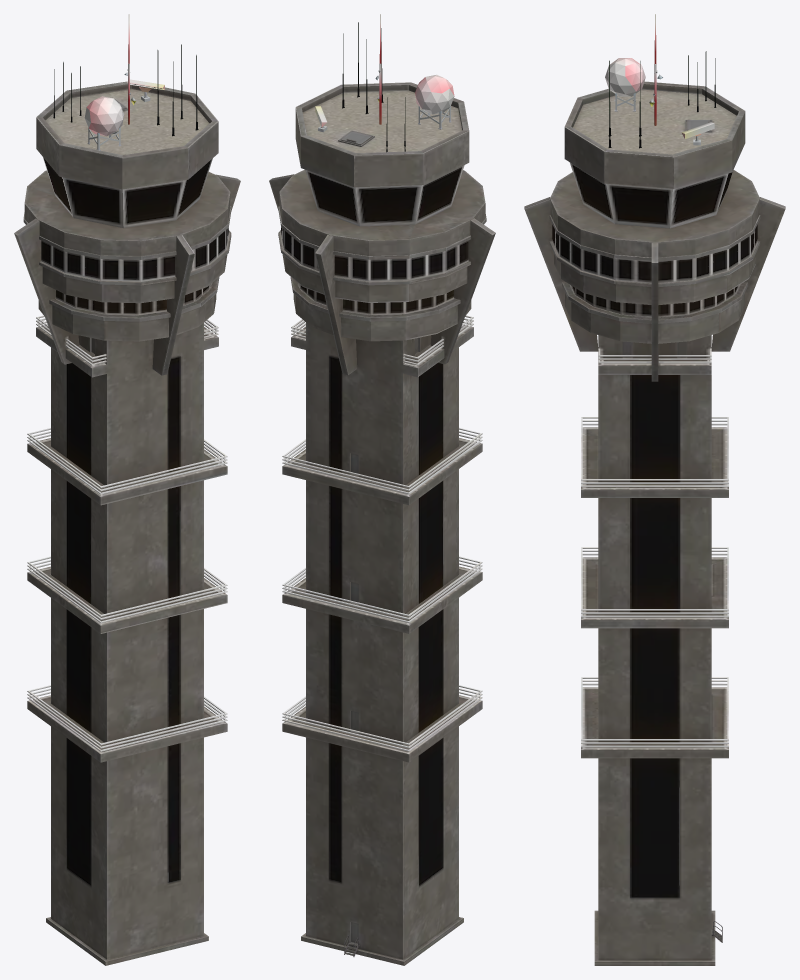
Rendered from atc-tower.lod1.glb.
3 views of the same model, side by side, from view 1: azimuth 30°, elevation 25°; view 2: azimuth 150°, elevation 25°; view 3: azimuth 270°, elevation 25° (orthographic).
Parts seen in each view (by area): view 1: Cylinder.003_AirTower01MAT_0; view 2: Cylinder.003_AirTower01MAT_0; view 3: Cylinder.003_AirTower01MAT_0.
Boxes of the visible parts, x1=… form: Cylinder.003_AirTower01MAT_0: x1=14, y1=14, x2=240, y2=965; Cylinder.003_AirTower01MAT_0: x1=269, y1=14, x2=495, y2=965; Cylinder.003_AirTower01MAT_0: x1=524, y1=14, x2=785, y2=965.
Size of the model in its own units: 8.17 by 32 by 8.17.
1 material, 1 textured.
